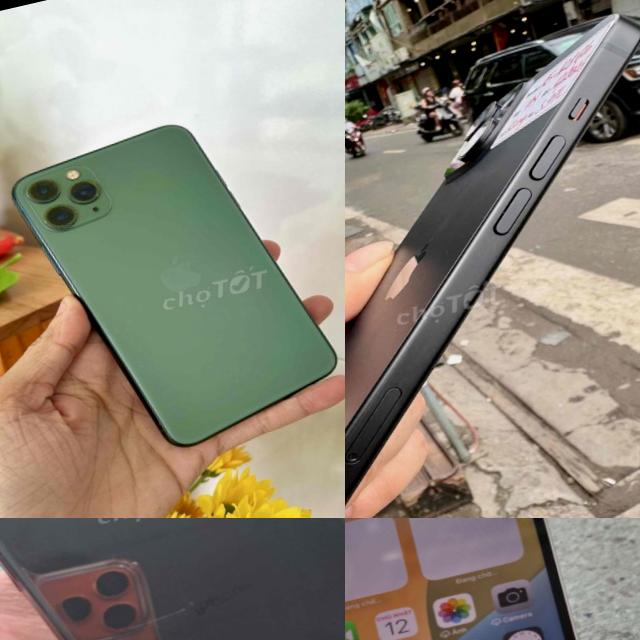scratch: (19, 160, 112, 233)
